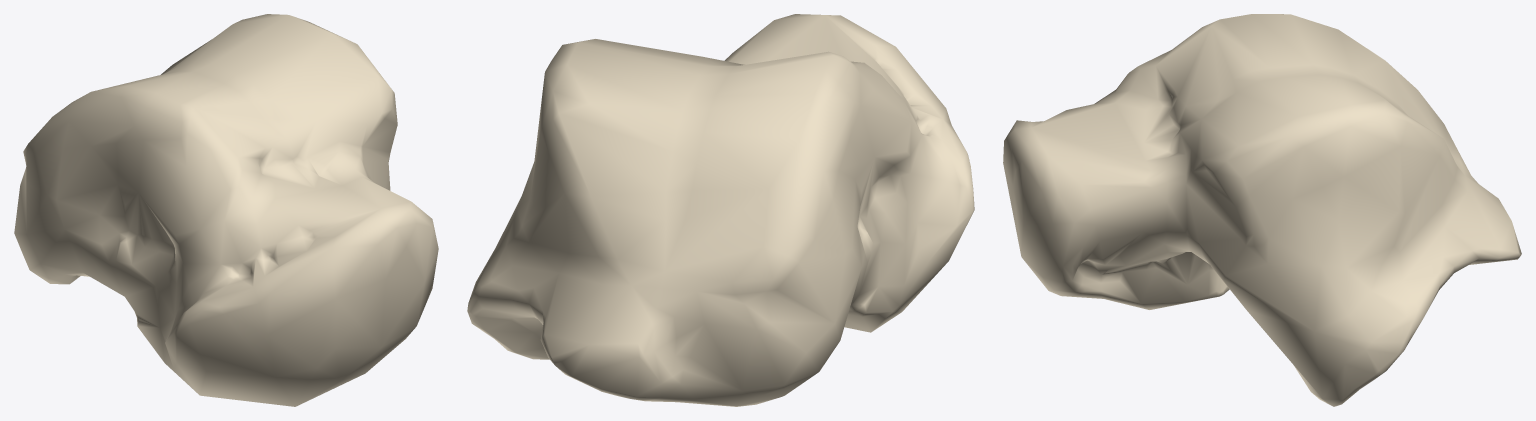
File: talus-l.glb
3 views of the same model, side by side, from view 1: azimuth 30°, elevation 25°; view 2: azimuth 150°, elevation 25°; view 3: azimuth 270°, elevation 25° (orthographic). The views are drawn at different scales.
Parts seen in each view (by area): view 1: Talus.l; view 2: Talus.l; view 3: Talus.l.
Boxes of the visible parts, x1=… form: Talus.l: x1=14, y1=14, x2=438, y2=406; Talus.l: x1=467, y1=14, x2=974, y2=406; Talus.l: x1=1003, y1=14, x2=1521, y2=406.
Bounding box in the file's own units: 0.0421 × 0.0356 × 0.0591.
